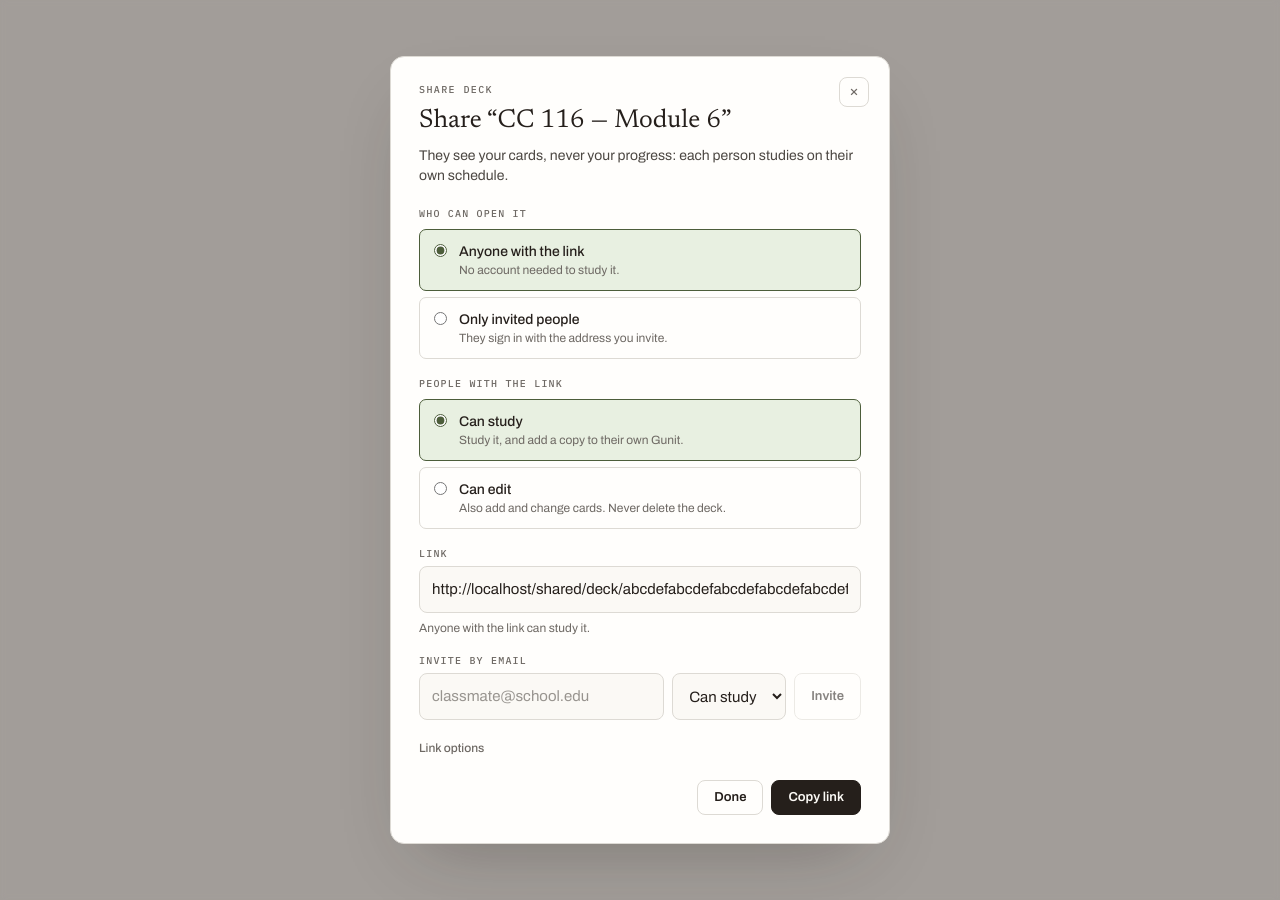
Test: sharing a deck › says why an invitation was refused
Expected: the field showing "/shared/deck/" is shown, [419,566,861,613]
In the field labelled "Invite by email": (542, 697) [419,673,664,720], type "olive@example.com"
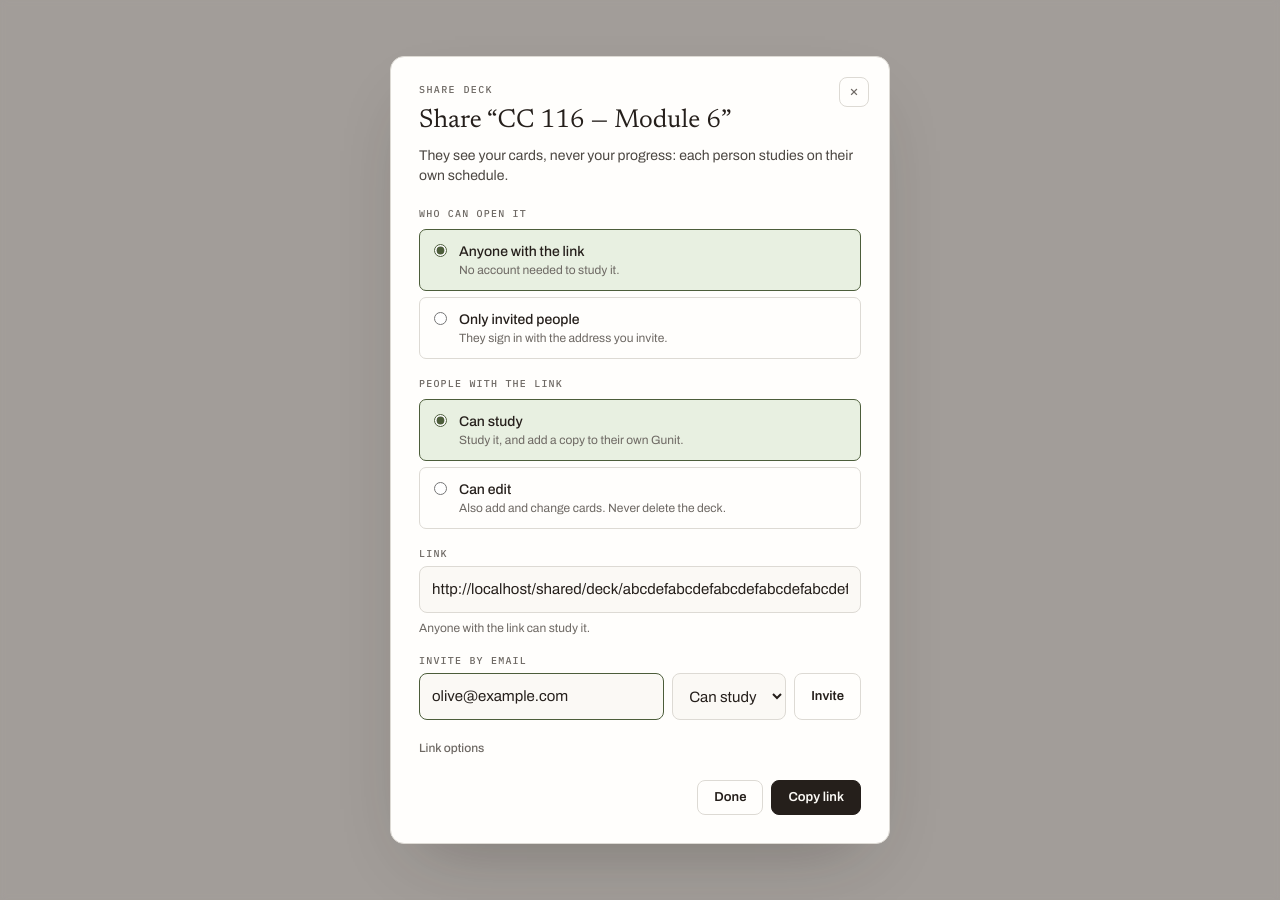
Click the button "Invite": (828, 697) [794,673,861,720]
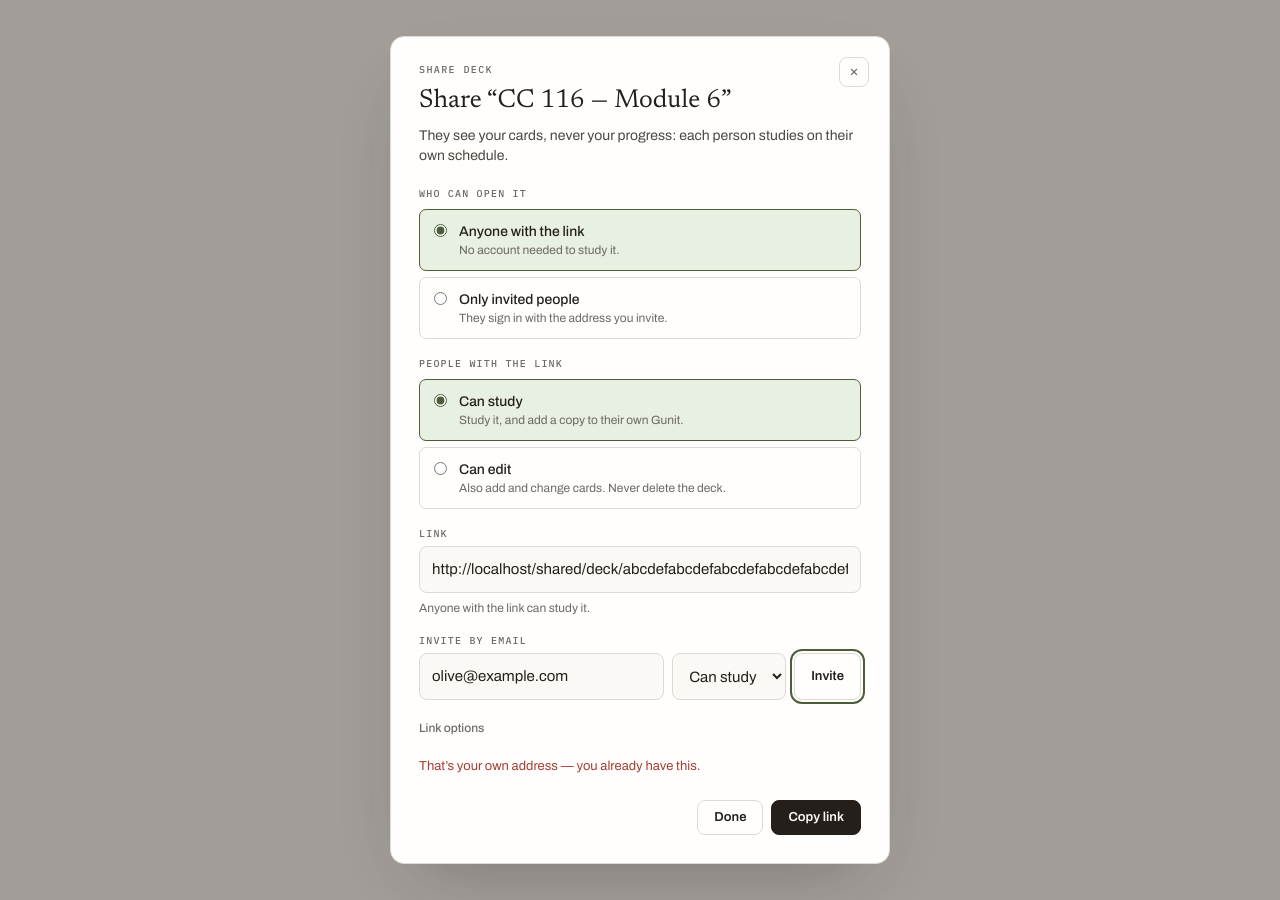
Expected: the message shows "your own address", [419,759,700,773]
